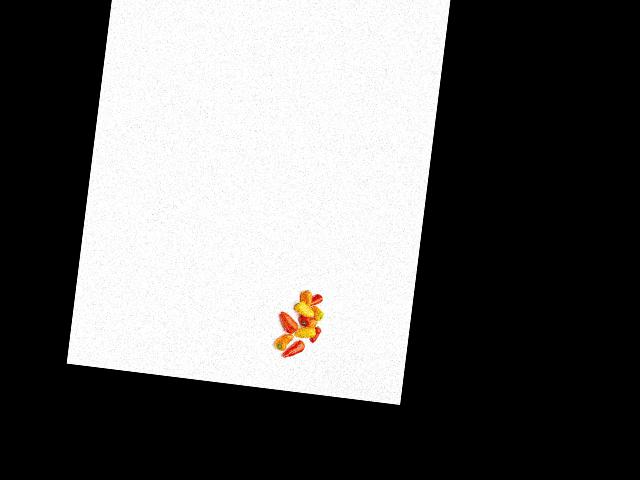bell_pepper: (310, 325, 322, 345)
